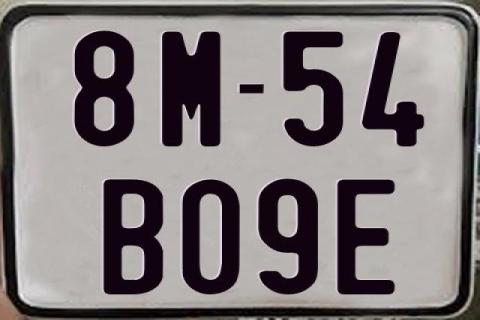0: (258, 177, 324, 297), (362, 32, 426, 149), (182, 177, 244, 297), (280, 29, 342, 147), (74, 31, 134, 151)
B: (101, 177, 160, 293)
E: (336, 177, 398, 292)
M: (159, 30, 224, 148)
